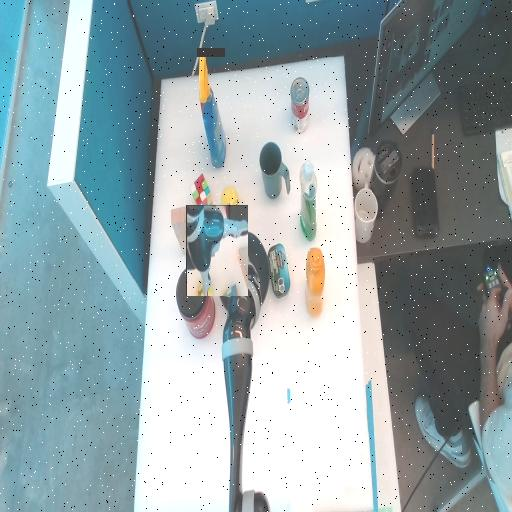bowl: (217, 250, 268, 302)
cleanser: (300, 161, 316, 241)
coffee_can: (175, 284, 214, 322)
jaco: (186, 206, 248, 296)
meat_can: (268, 245, 289, 298)
mug: (259, 143, 289, 199)
mustard_bottle: (305, 249, 324, 317)
rubik: (190, 185, 212, 207)
soup_can: (290, 97, 308, 115)
tennis_ball: (221, 188, 238, 218)
windex: (197, 99, 225, 121)
wooden_block: (171, 208, 195, 254)
workspace: (135, 57, 372, 509)
